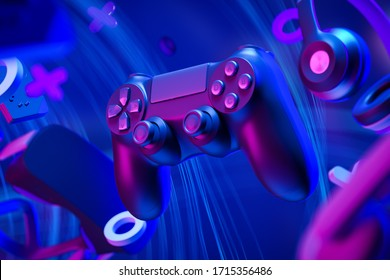gamingconsole: (107, 45, 312, 222)
